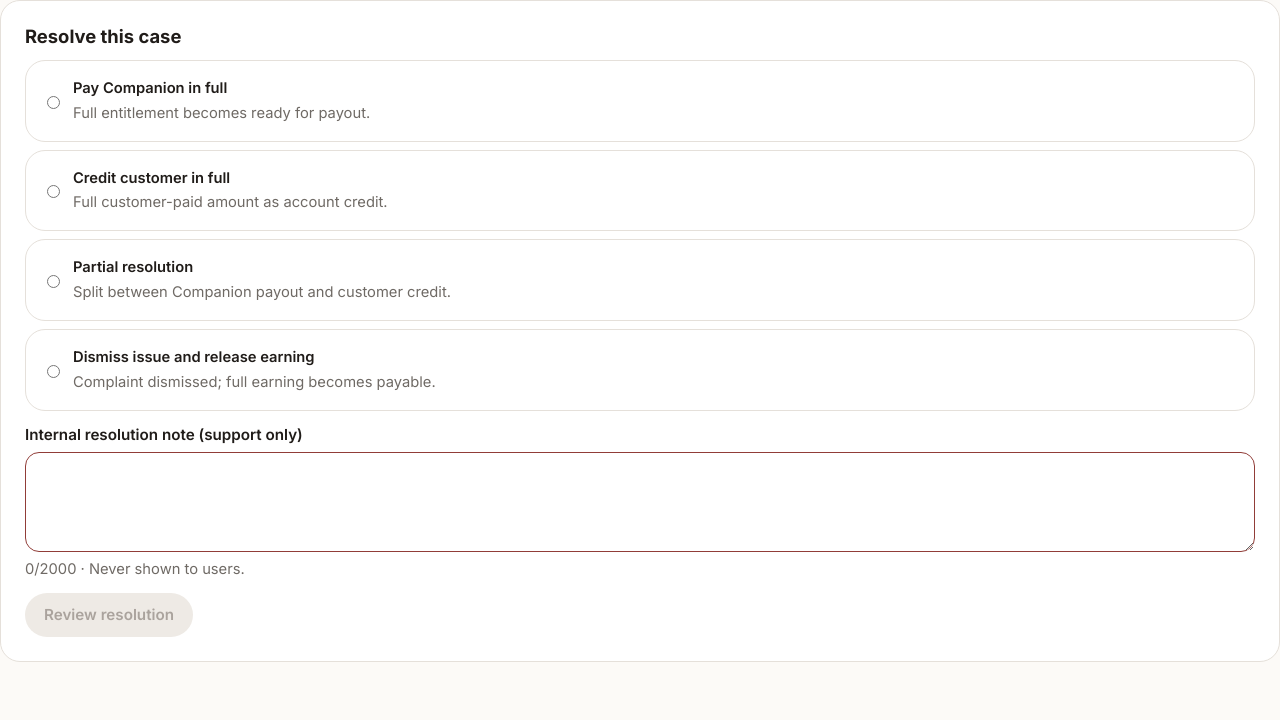
Test case: IssueResolutionForm › requires a note before review is possible
Click the 1st radio button at point(54, 102), box x1=47 y1=96 x2=60 y2=109
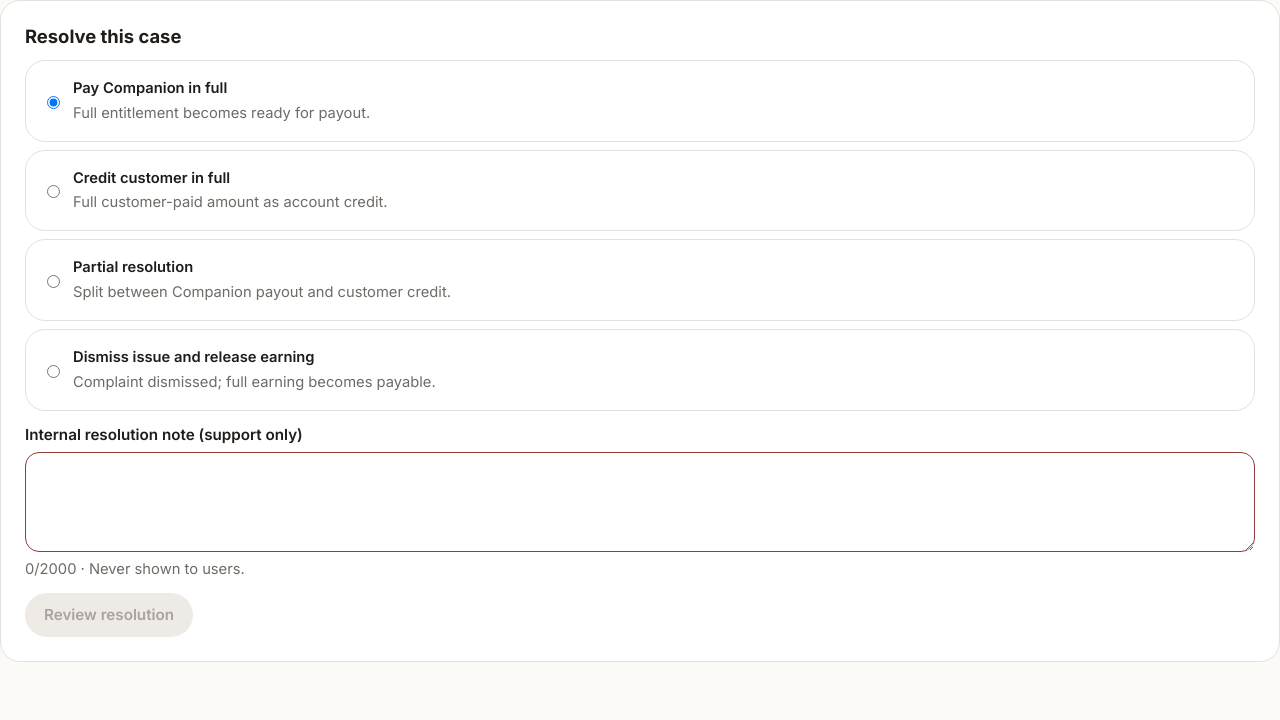
Expected: the button "Review resolution" is disabled, x1=25 y1=593 x2=193 y2=637
Type "Approved after review" into the text box labelled "Internal resolution note (support only)" at point(640, 502), box x1=25 y1=452 x2=1255 y2=552
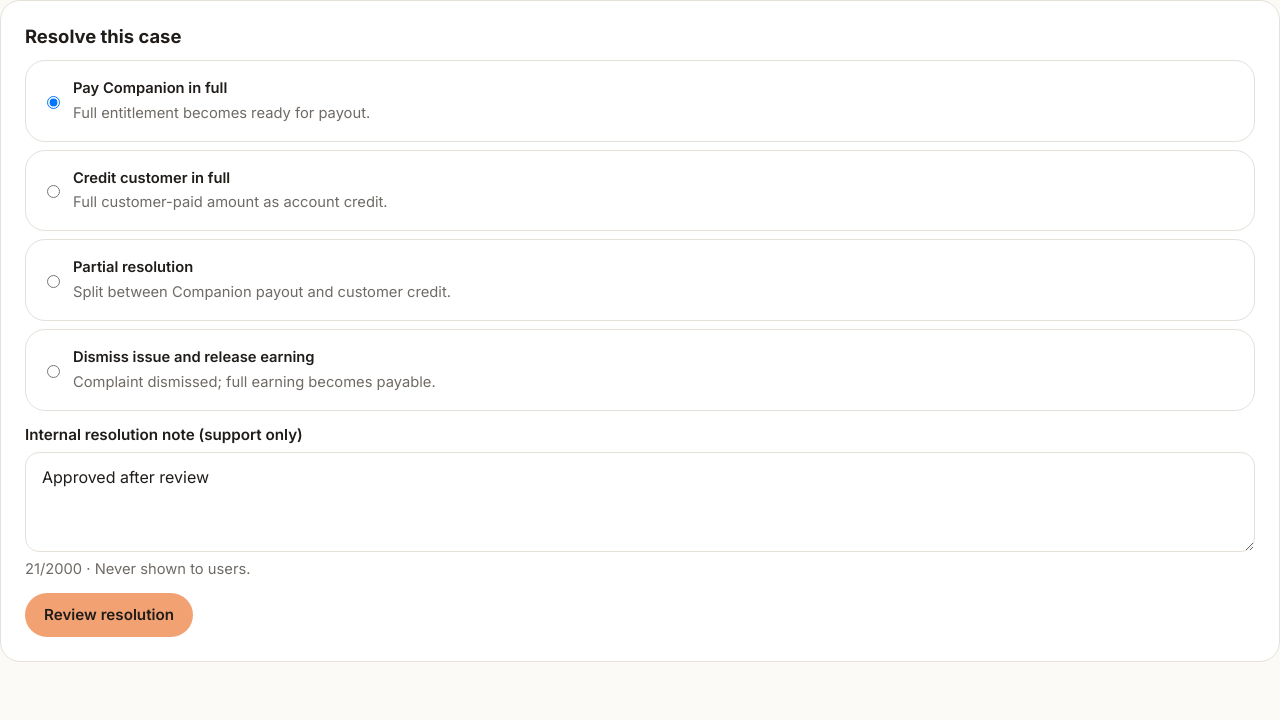
Now the button "Review resolution" is enabled, box x1=25 y1=593 x2=193 y2=637
